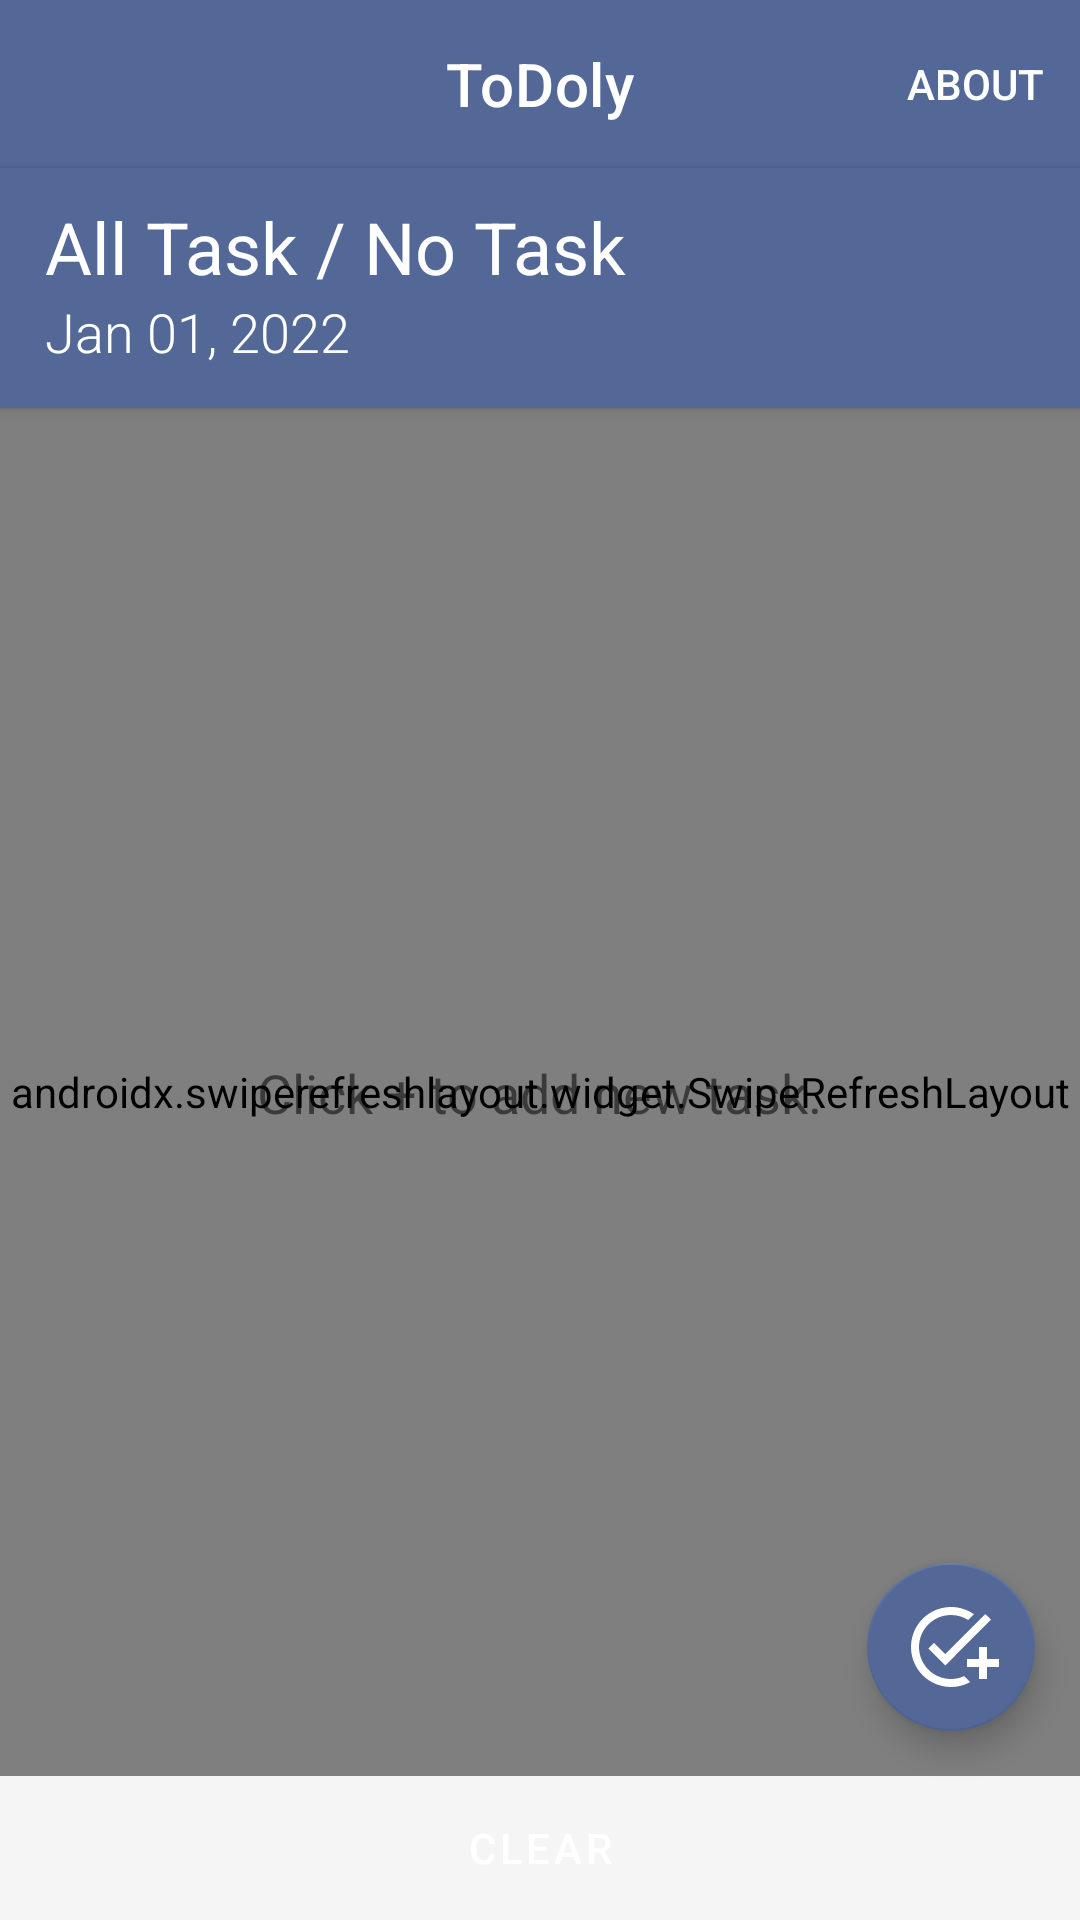

Screen size 1080px×1920px. Icon name, then its center in pixels as (x=x, y=y):
Add Task: (x=951, y=1647)
